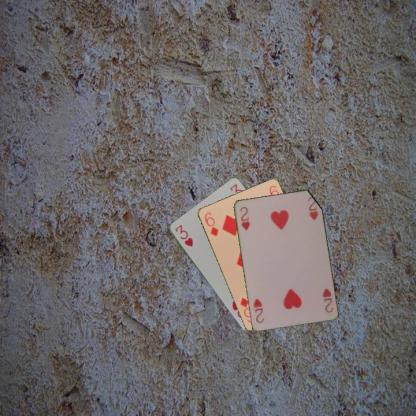2h: (319, 285, 334, 314), (237, 204, 251, 231)
3h: (172, 222, 194, 248)
6d: (202, 210, 220, 237)
